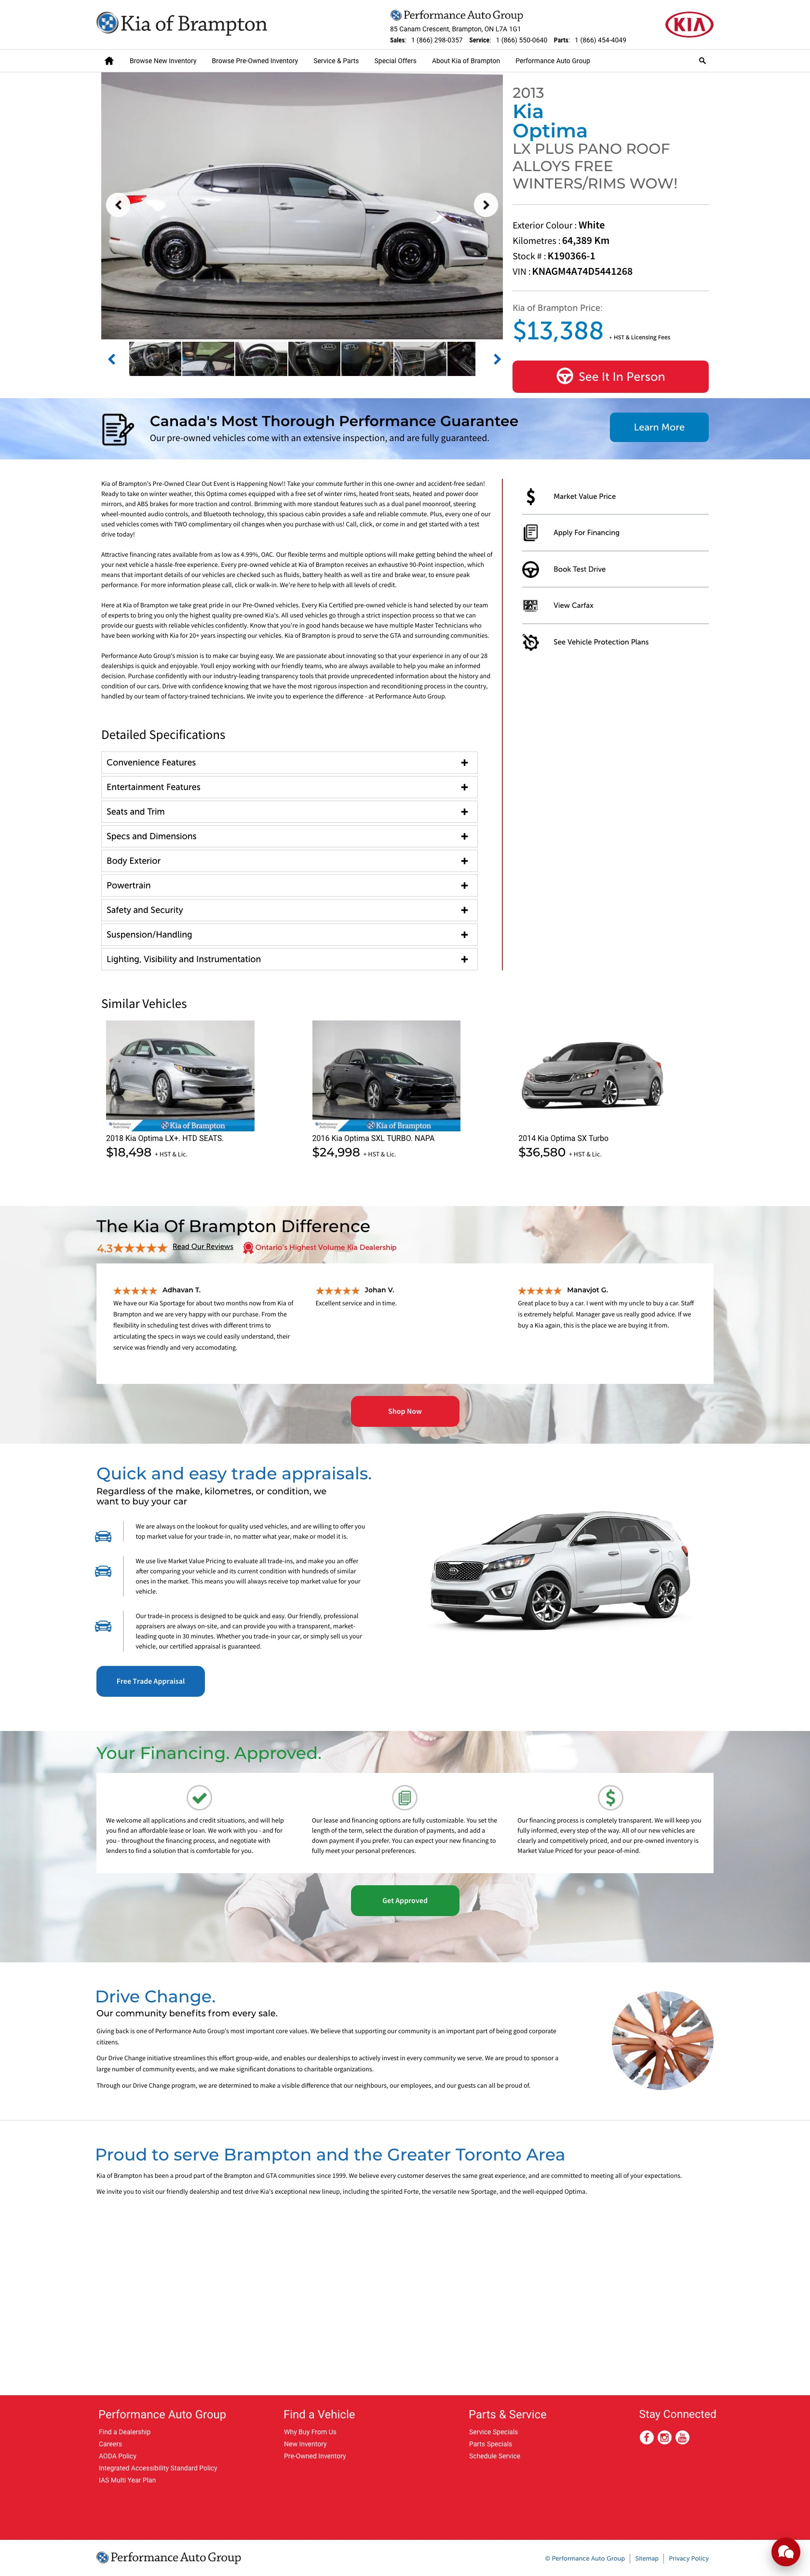car: (493, 355, 501, 365)
